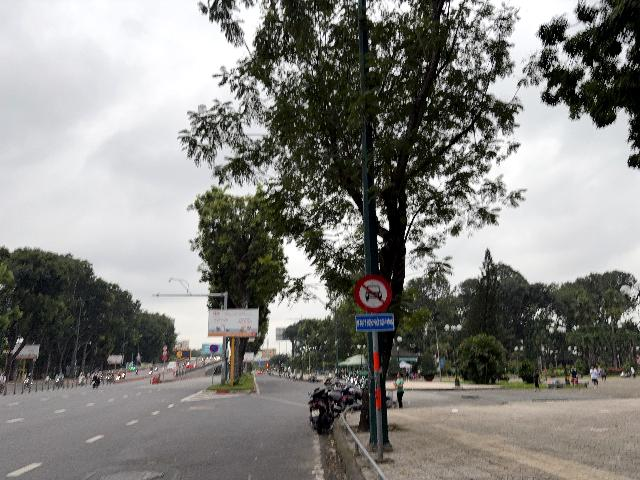cam-o-to: (354, 275, 391, 313)
